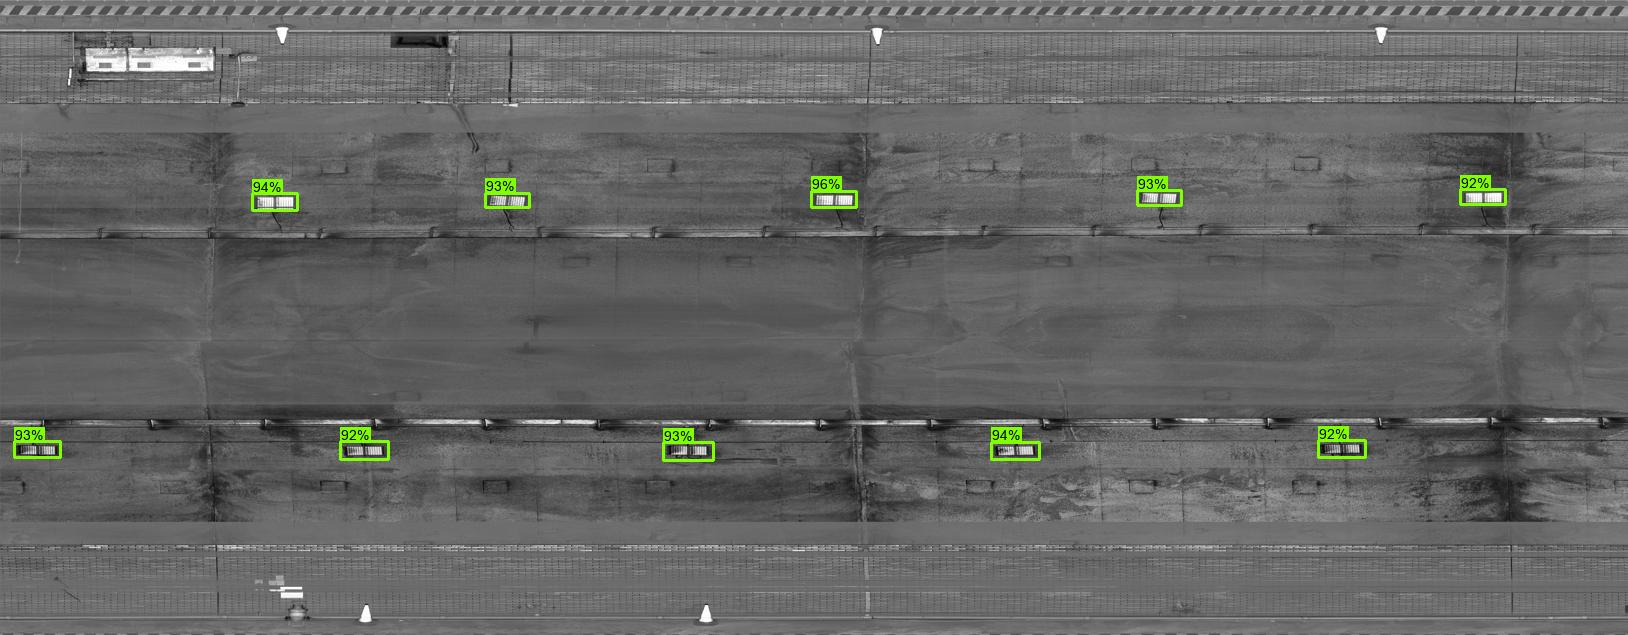light: (340, 437, 388, 462), (991, 435, 1039, 460), (249, 189, 297, 214), (482, 185, 530, 210), (807, 186, 854, 211), (663, 439, 711, 464), (1135, 187, 1183, 212), (1459, 186, 1507, 211), (1315, 437, 1363, 462), (13, 438, 58, 460)
